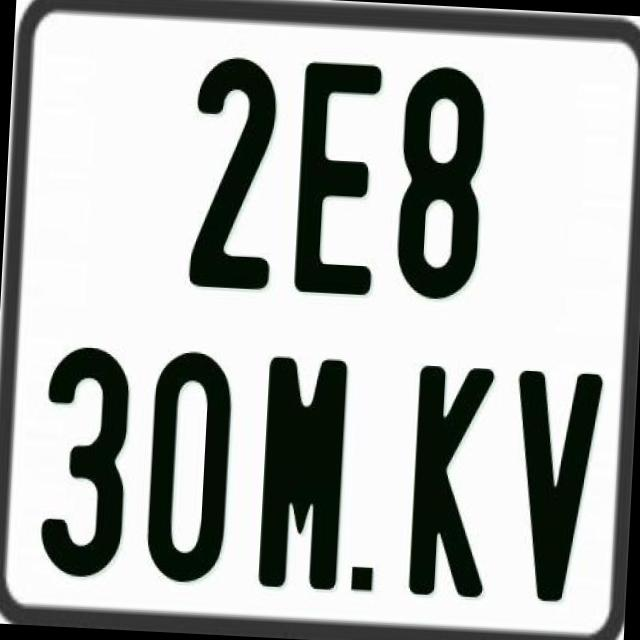0: (143, 350, 238, 591)
2: (184, 56, 276, 294)
3: (36, 342, 136, 584)
8: (392, 63, 490, 301)
E: (290, 61, 382, 305)
K: (406, 363, 494, 598)
M: (256, 351, 348, 590)
V: (508, 369, 611, 607)
